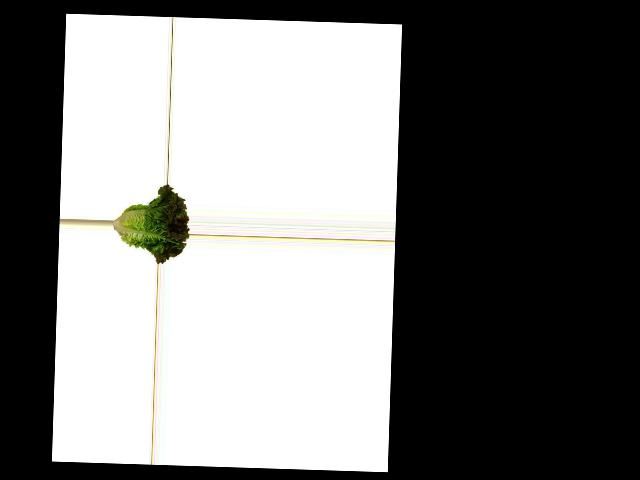lettuce: (111, 183, 189, 263)
